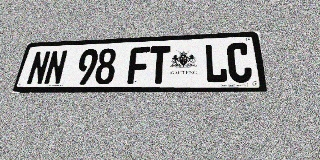8: (94, 48, 118, 84)
9: (75, 49, 99, 84)
C: (226, 42, 253, 83)
F: (127, 47, 150, 84)
L: (204, 43, 228, 83)
N: (43, 50, 68, 85), (26, 51, 51, 85)
T: (148, 46, 170, 84)
